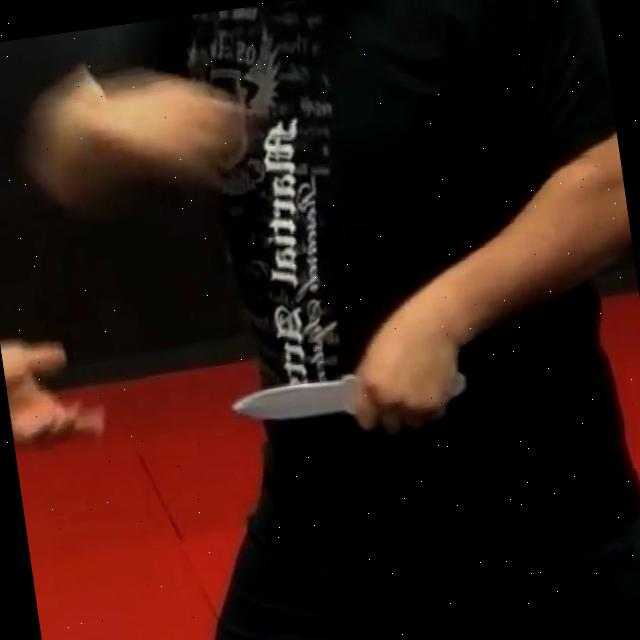suspicion: (194, 134, 640, 465), (229, 374, 359, 438), (450, 374, 468, 397)
